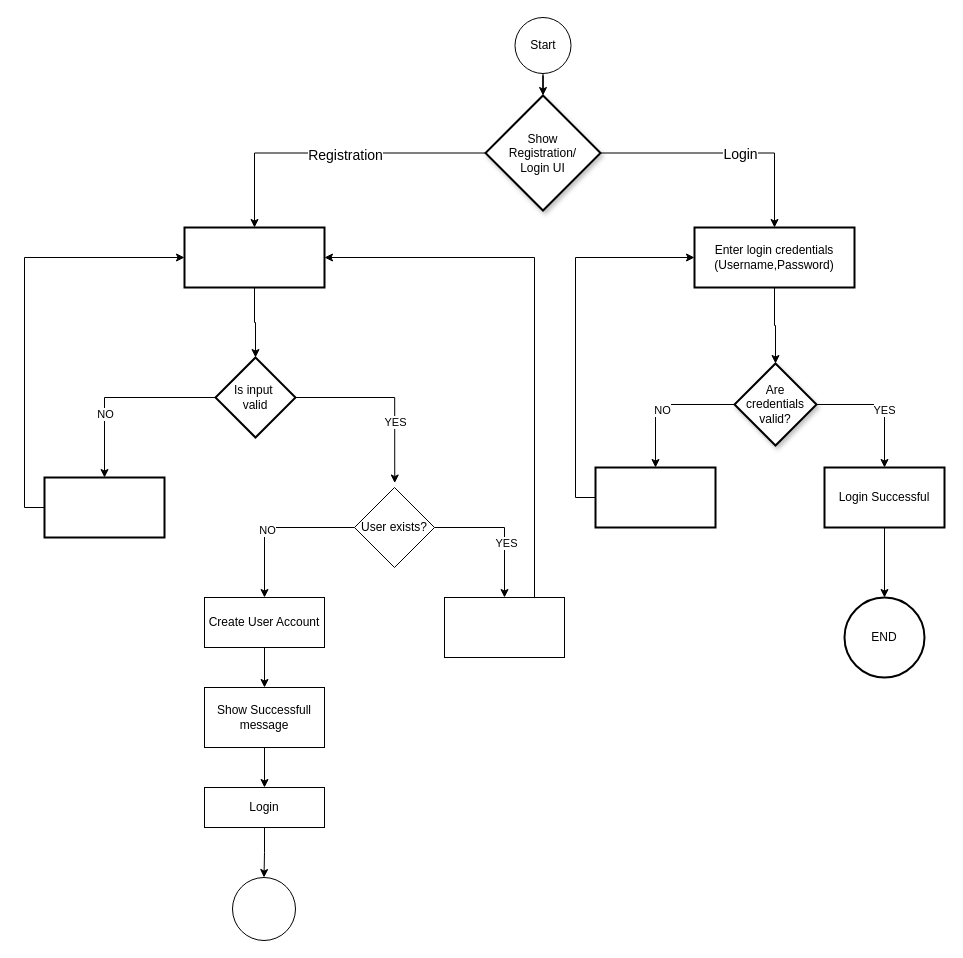
This 963x958 diagram has some shape labels left out. The shapes that lost their labels are listed below. From the top down, each one's centre as x and y in pixels, then its label:
[254,257]: Enter registration details
[104,507]: Show error: invalid input
[655,497]: Show Error: inValid Credentials
[504,627]: Show error: user already exists
[264,908]: ENF
